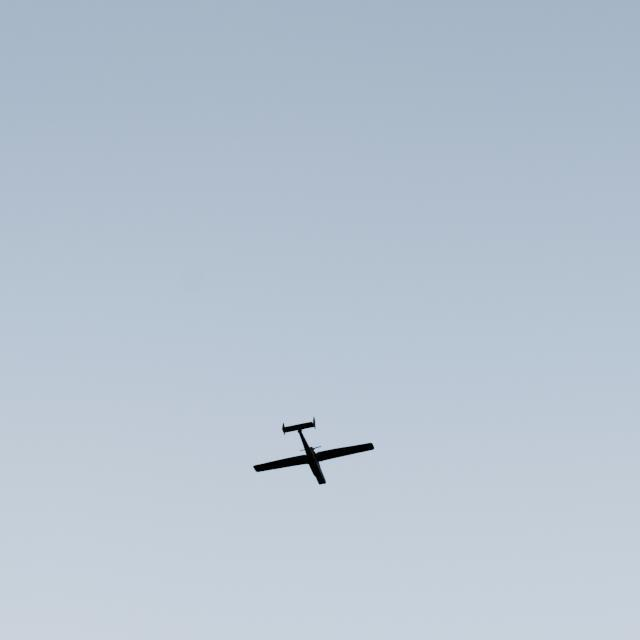Airaplan: (253, 416, 375, 485)
